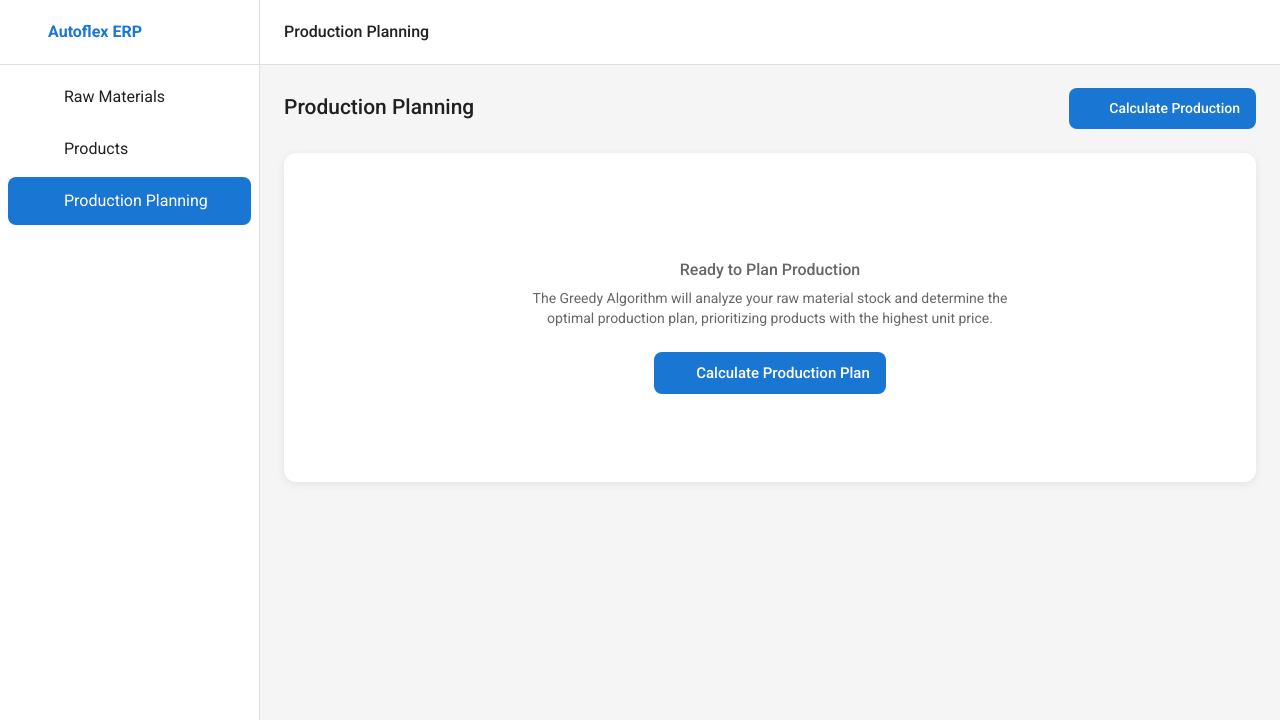
Scenario: Production Planning › Calculate Production Plan › should calculate and display production results
What coordinates should you click on to do the following:
click the button "Calculate Production Plan"
I would click on:
 (770, 373)
Its box is x1=654 y1=352 x2=886 y2=394.
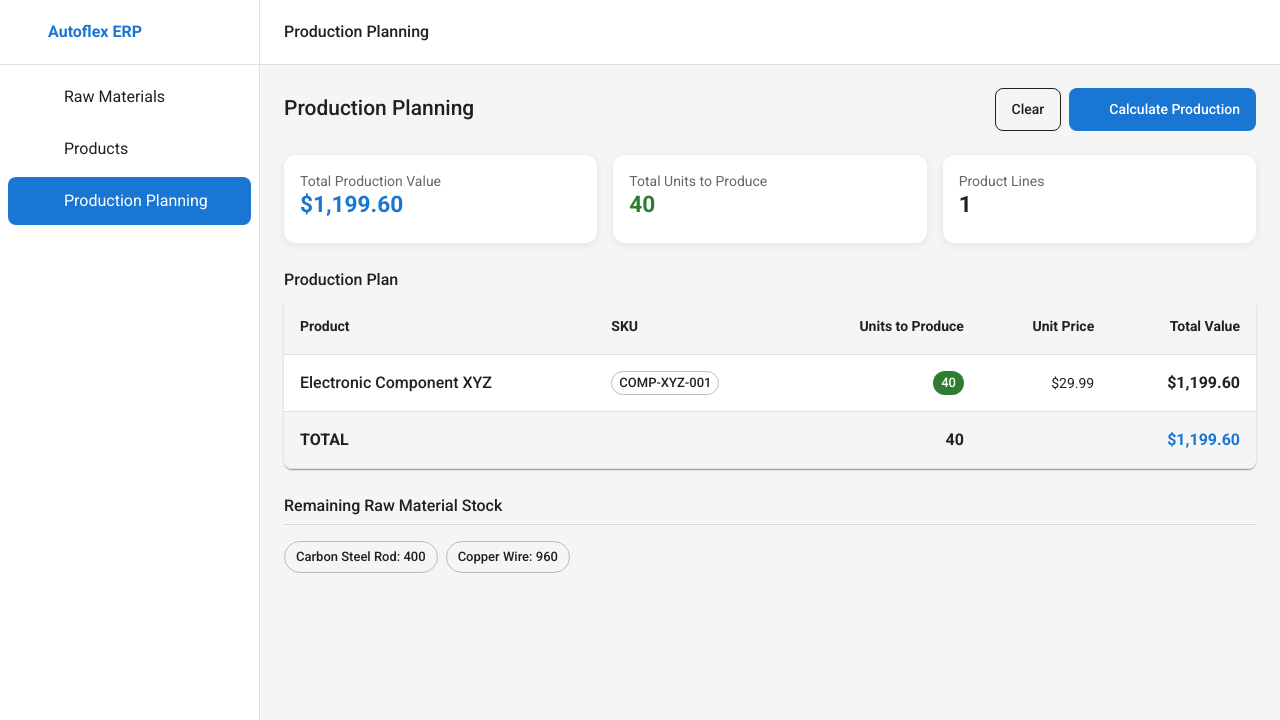
Expected: the text "Total Production Value" is shown, x1=300 y1=172 x2=441 y2=188
Expected: the heading "$1,199.60" is shown, x1=300 y1=190 x2=403 y2=218
Expected: the text "Total Units to Produce" is shown, x1=629 y1=172 x2=767 y2=188
